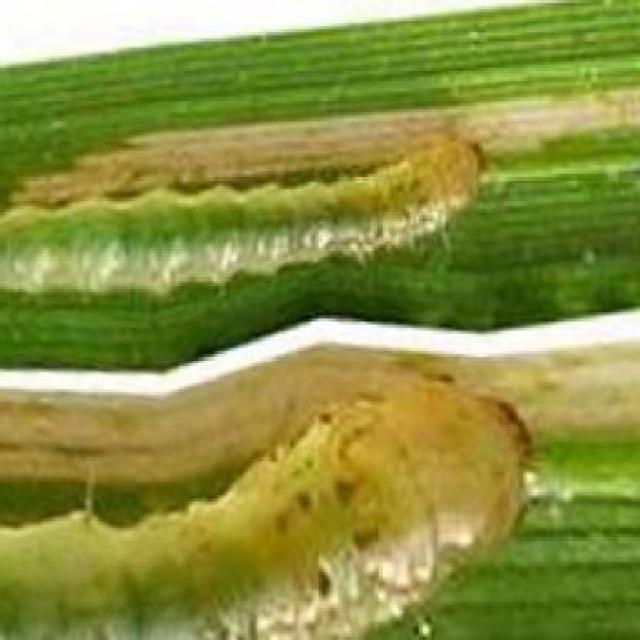leaf-folder: (2, 371, 550, 640), (0, 93, 473, 318)
